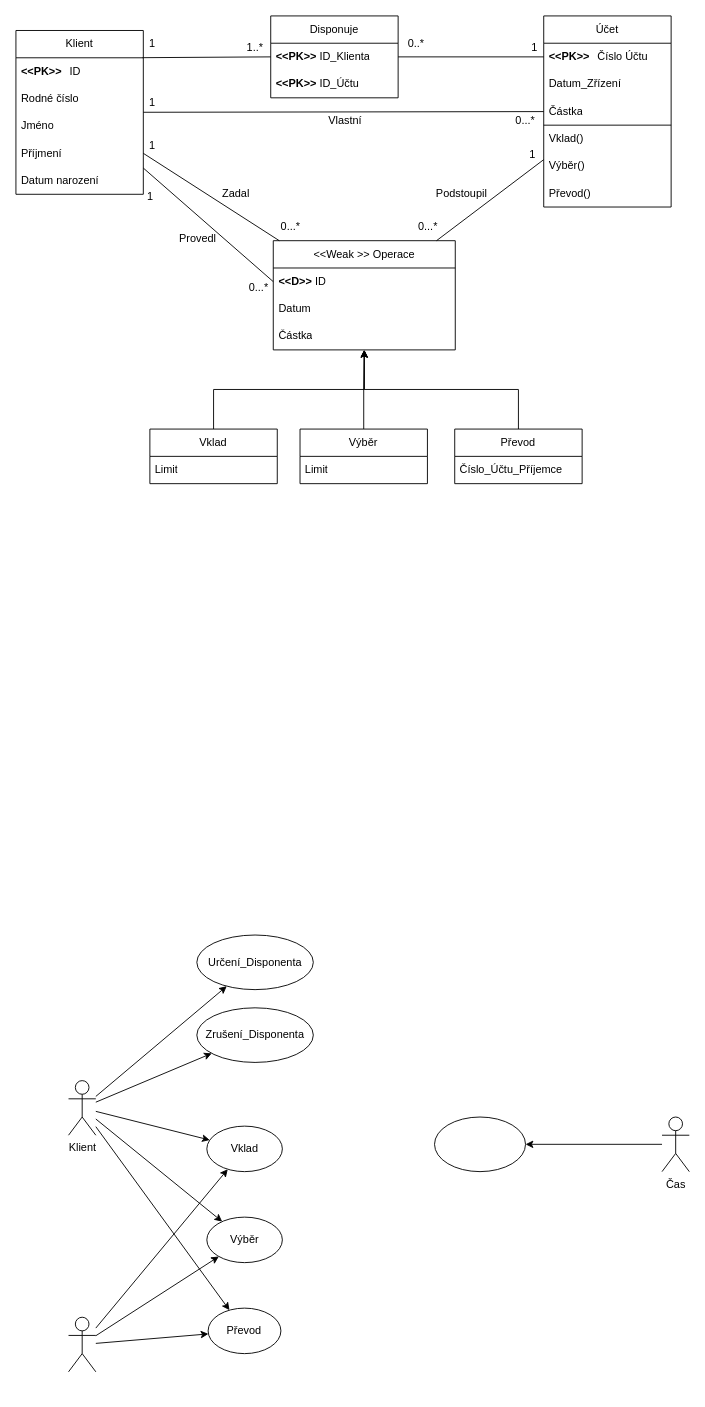
Image size: 705x1407. Some labels were removed from this diagram. Each missing label, with the centre of its shape:
"Polat_Výpis" belongs at point (480, 1144).
"Pracovník" belongs at point (82, 1344).
